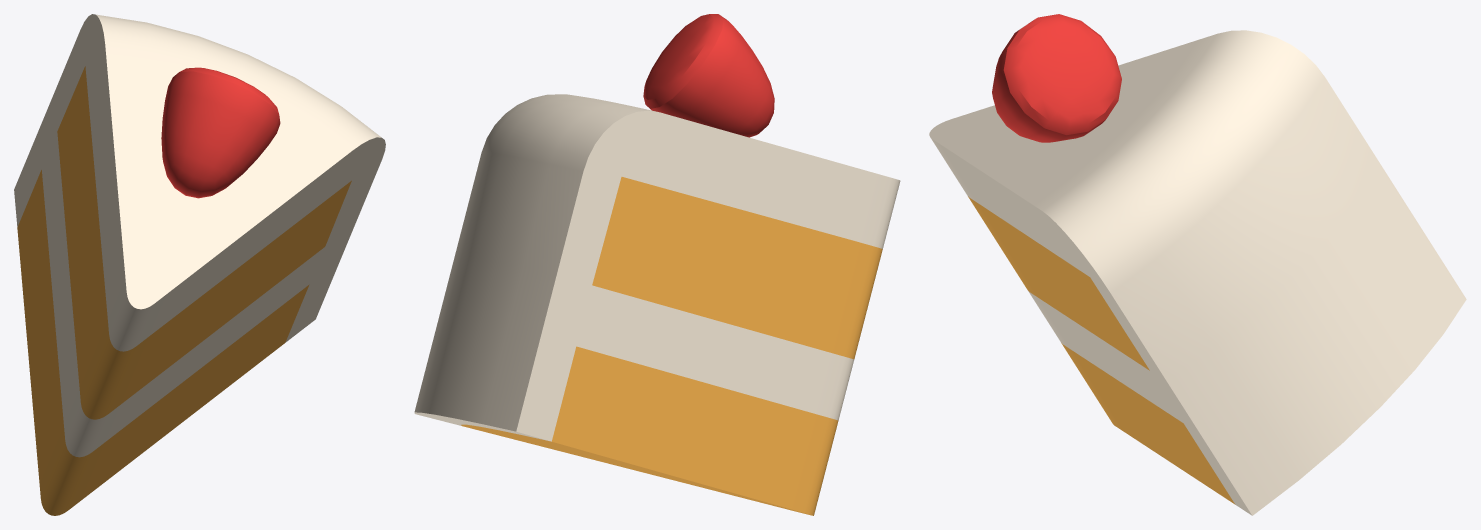
Rendered from shortcake.glb.
The picture shows the model from 3 angles, left to right: view 1: azimuth 30°, elevation 25°; view 2: azimuth 150°, elevation 25°; view 3: azimuth 270°, elevation 25°; orthographic projection. The views are drawn at different scales.
Visible parts, largest first — view 1: Circle.2258; view 2: Circle.2258; view 3: Circle.2258.
Boxes of the visible parts, x1=… form: Circle.2258: x1=14, y1=14, x2=385, y2=515; Circle.2258: x1=414, y1=14, x2=900, y2=515; Circle.2258: x1=929, y1=14, x2=1466, y2=515.
Size of the model in its own units: 1.62 by 2.03 by 2.12.
Materials: 1 (1 with a texture image).
